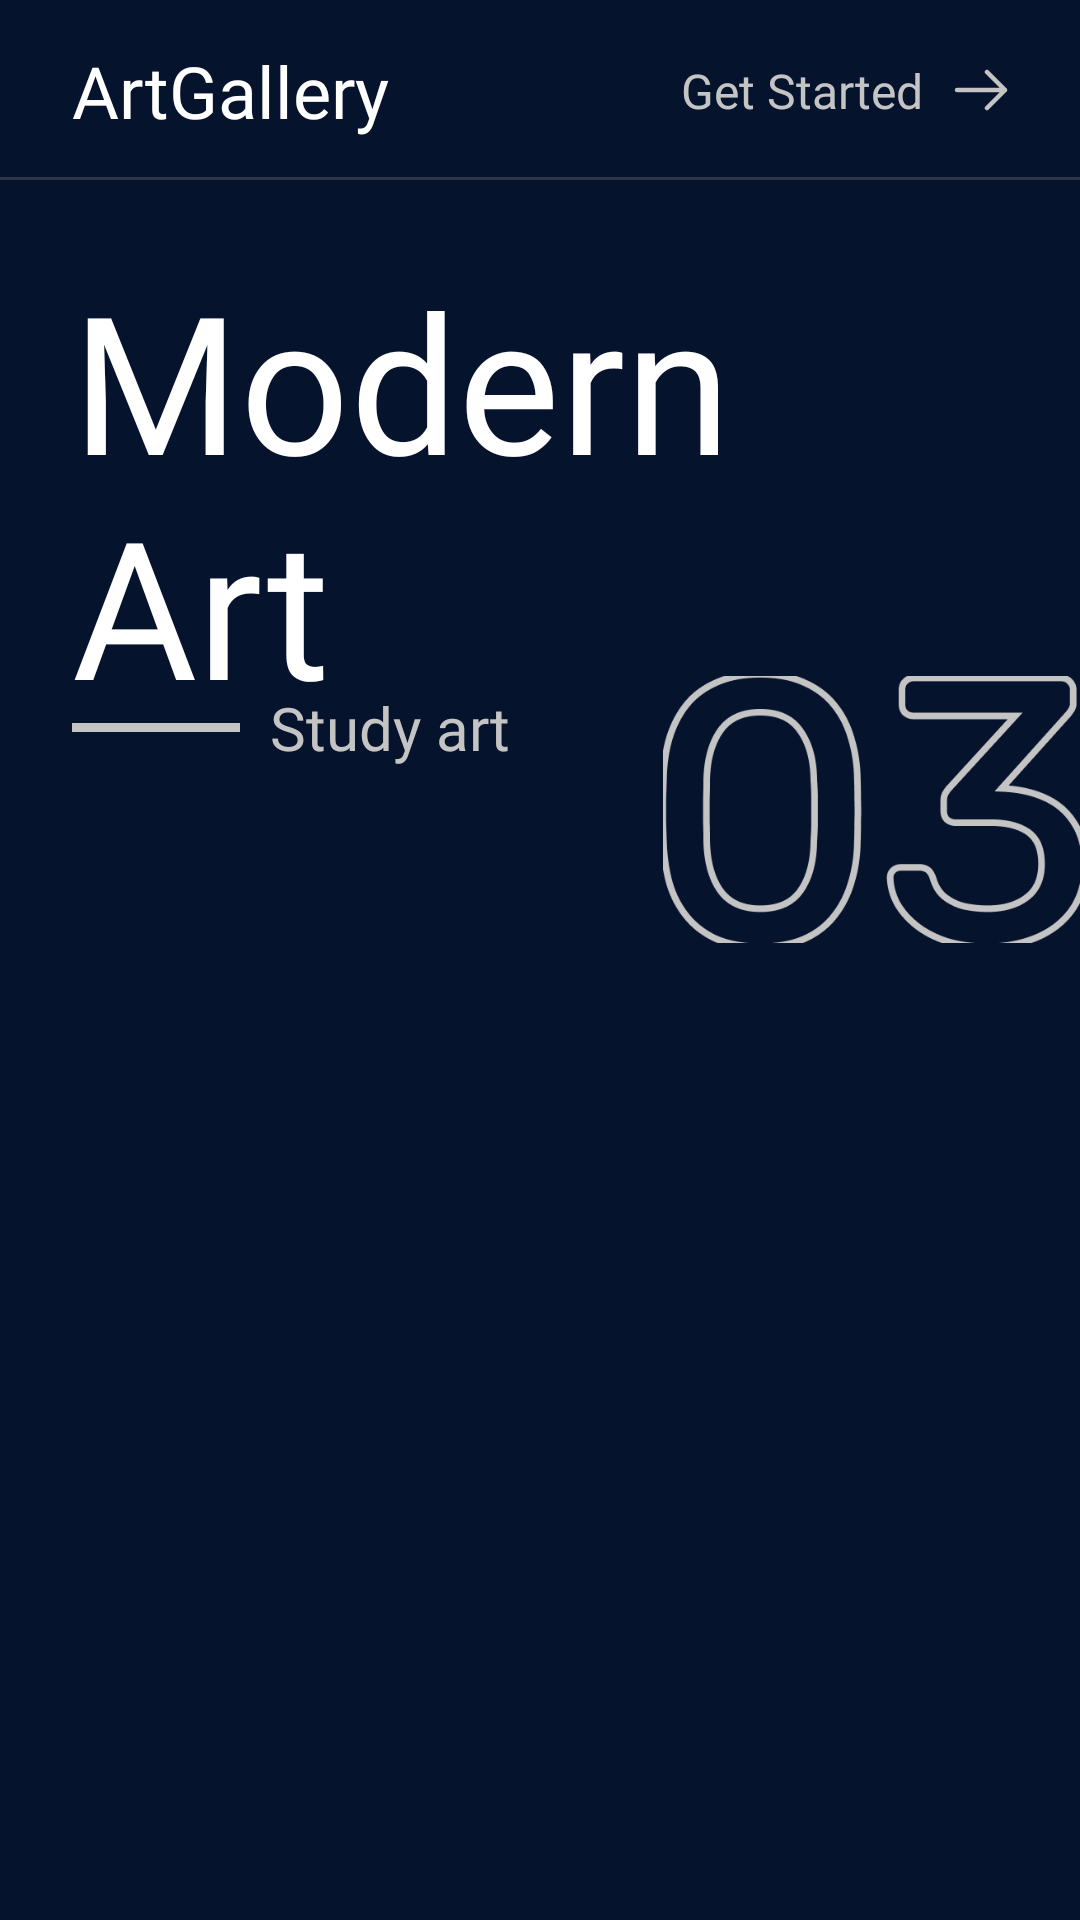

Screen size 1080*1920. Icon name, then its center in pixels as [x,y]:
next: [981,90]
